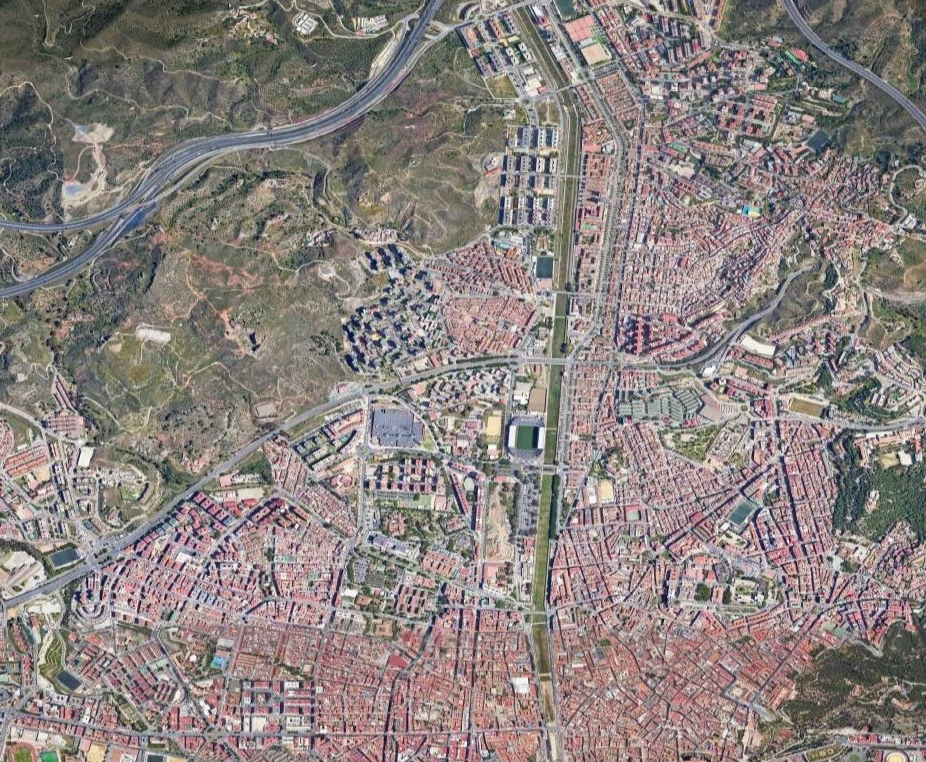bridge: (539, 347, 580, 382)
motorway: (1, 117, 309, 305), (295, 1, 466, 143), (777, 1, 926, 133), (157, 412, 316, 521), (1, 509, 159, 618), (673, 265, 815, 384), (314, 349, 486, 420), (485, 345, 670, 390)
